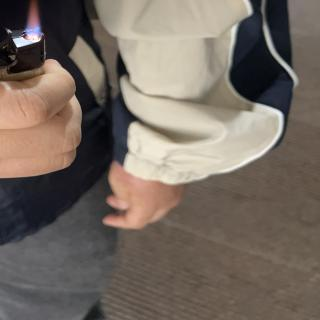fire: (25, 0, 43, 38)
